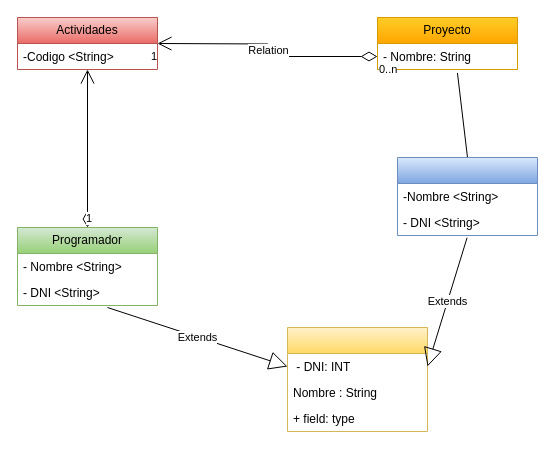
This 555x452 diagram has some shape labels left out. The box of each missing label's shape, as (x1, y1, x2, y2) in pixels:
Jefe Proyecto: (396, 156, 538, 236)
Persona: (286, 326, 428, 432)
